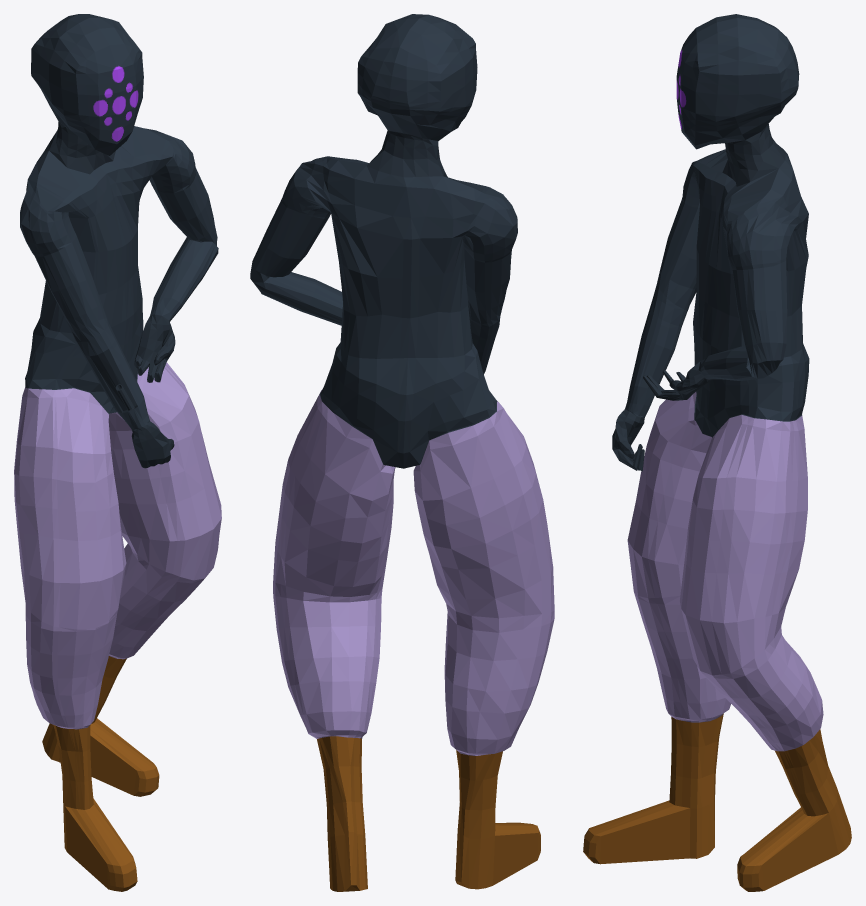
The model's file is Oracle_WF_000024.obj.
The picture shows the model from 3 angles, left to right: view 1: azimuth 30°, elevation 25°; view 2: azimuth 150°, elevation 25°; view 3: azimuth 270°, elevation 25°; orthographic projection. The views are drawn at different scales.
Parts seen in each view (by area): view 1: Cube; view 2: Cube; view 3: Cube.
Part boxes in pixels (x1,y1,x2,y2): Cube: (14,14,221,891); Cube: (250,14,554,891); Cube: (583,14,851,891).
Bounding box in the file's own units: 1.16 × 3.92 × 1.11.
